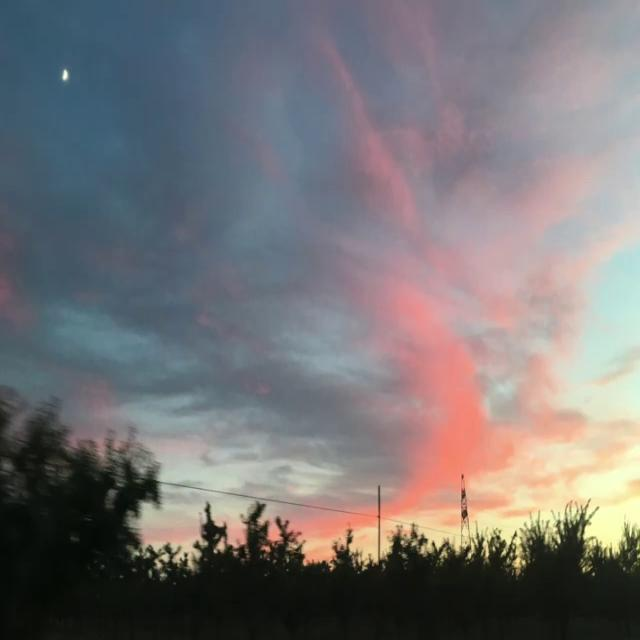Smoke: (1, 0, 633, 519)
